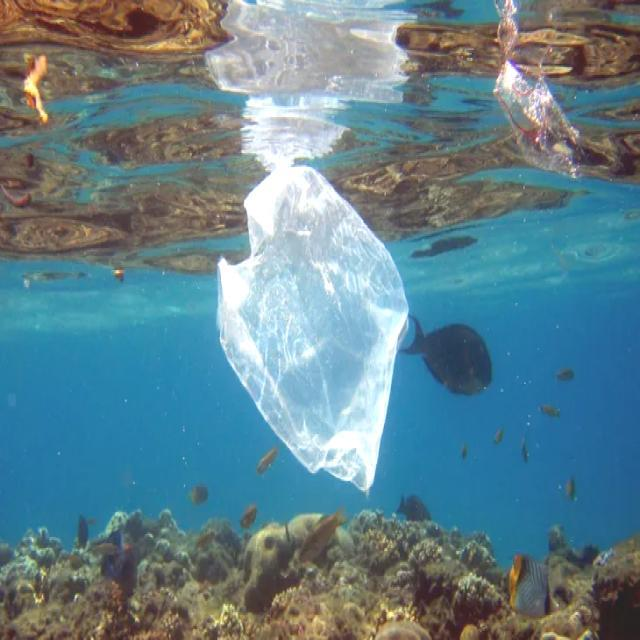Single-layer Plastic: (219, 166, 409, 492), (494, 60, 579, 177)
